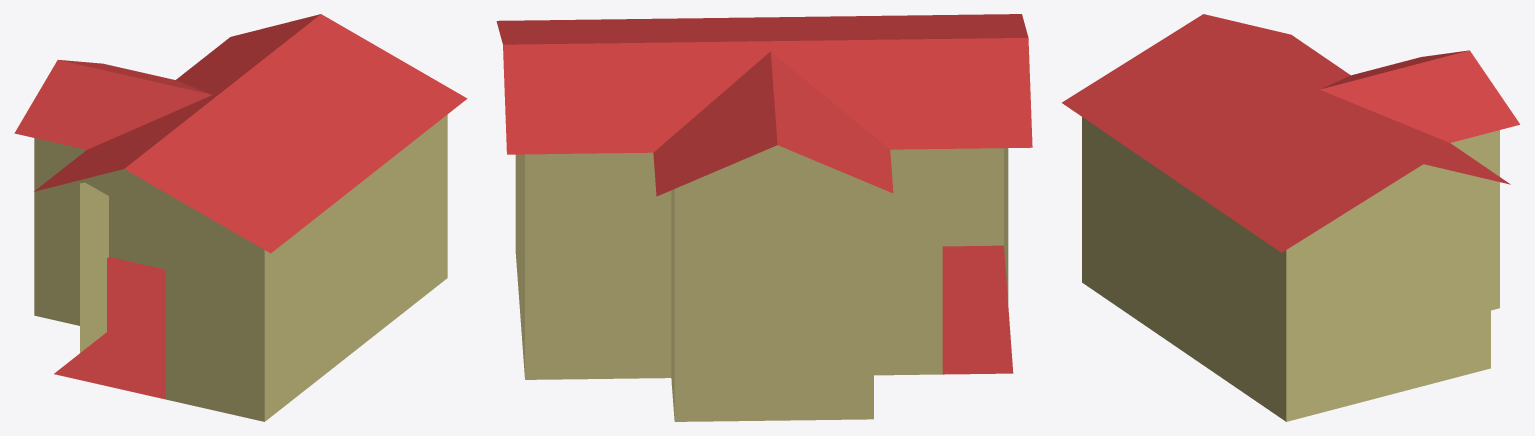
3 views of the same model, side by side, from view 1: azimuth 30°, elevation 25°; view 2: azimuth 150°, elevation 25°; view 3: azimuth 270°, elevation 25° (orthographic). The views are drawn at different scales.
Bounding box in the file's own units: 16.76 × 15.46 × 8.52.
